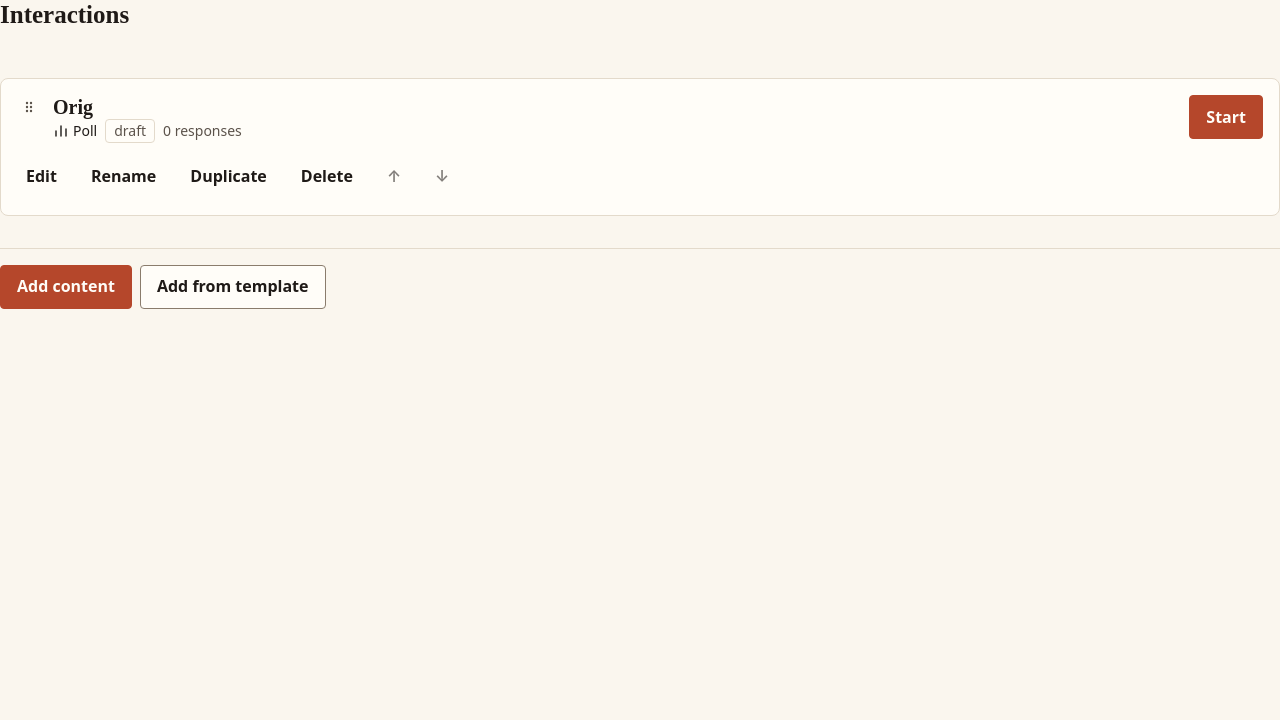
it: PollManager › duplicates and deletes drafts
Step 1. Click the button "Duplicate" → (229, 177), box [173,155,284,199]
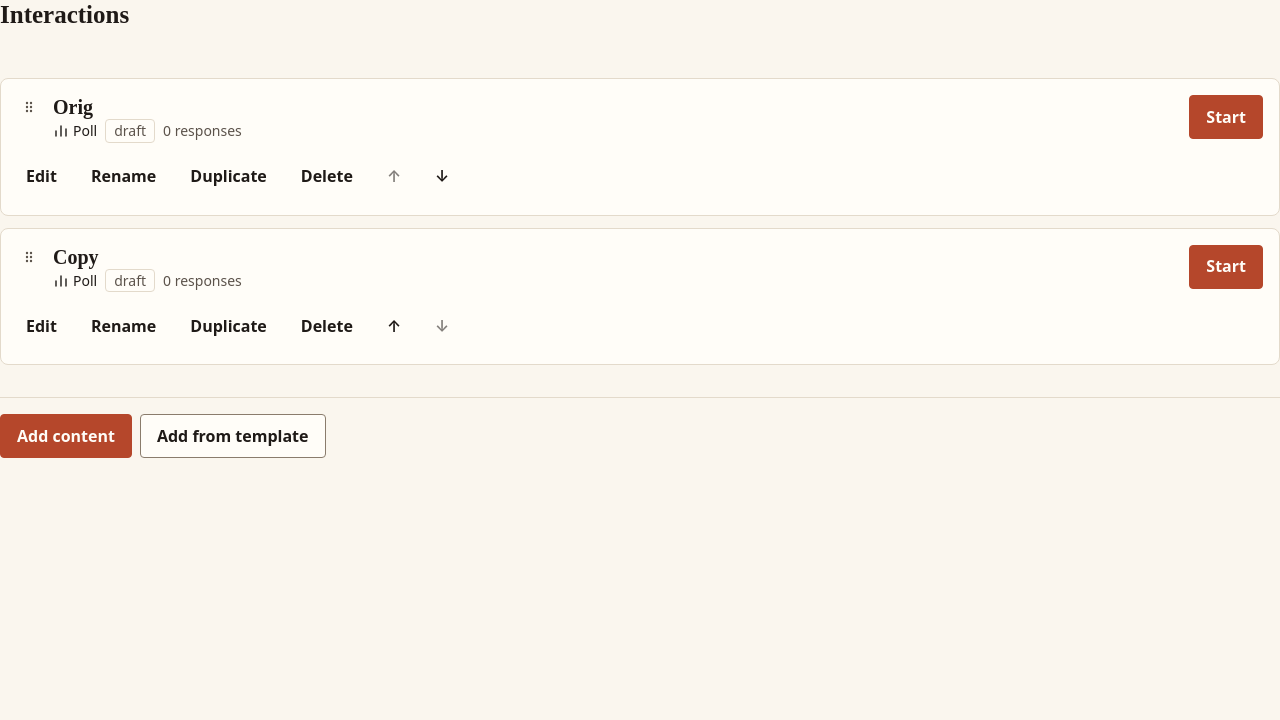
Check: the heading "Copy" is shown, box [53,246,99,268]
Step 2. Click the button "Delete" below "Orig" → (327, 177), box [284,155,370,199]
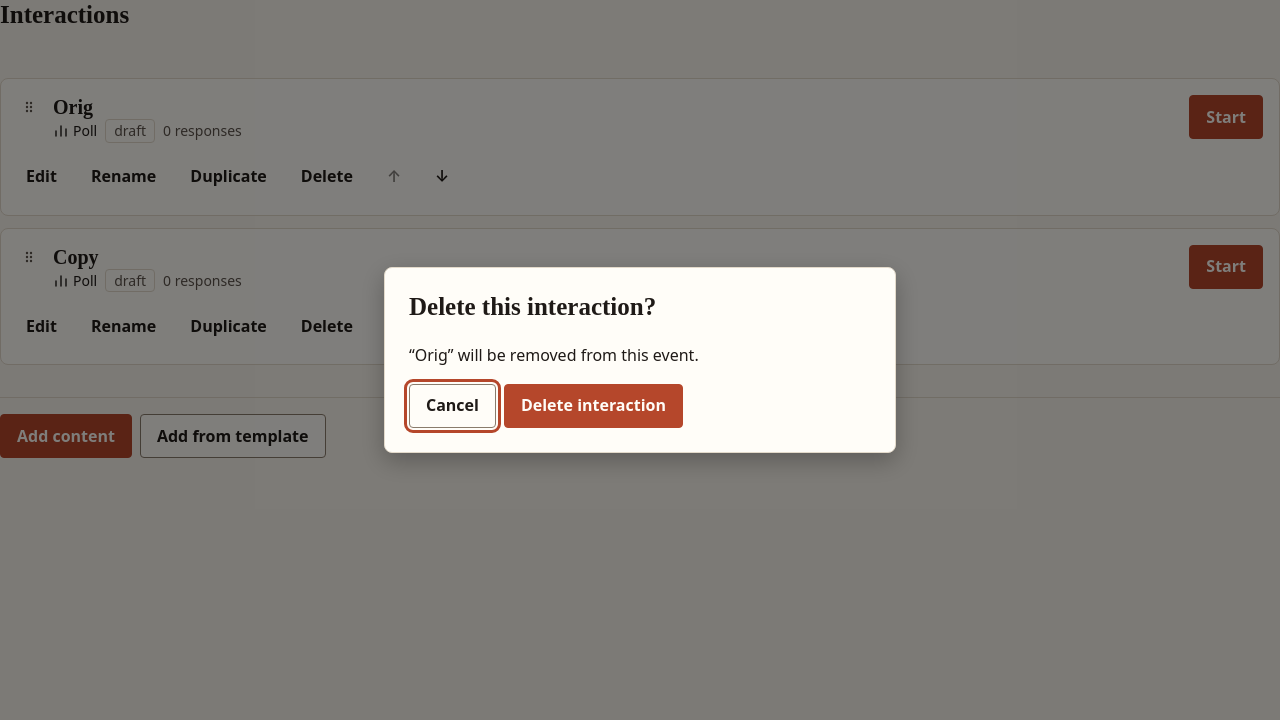
Step 3. Click the button "Delete interaction" → (593, 406), box [504,384,683,428]
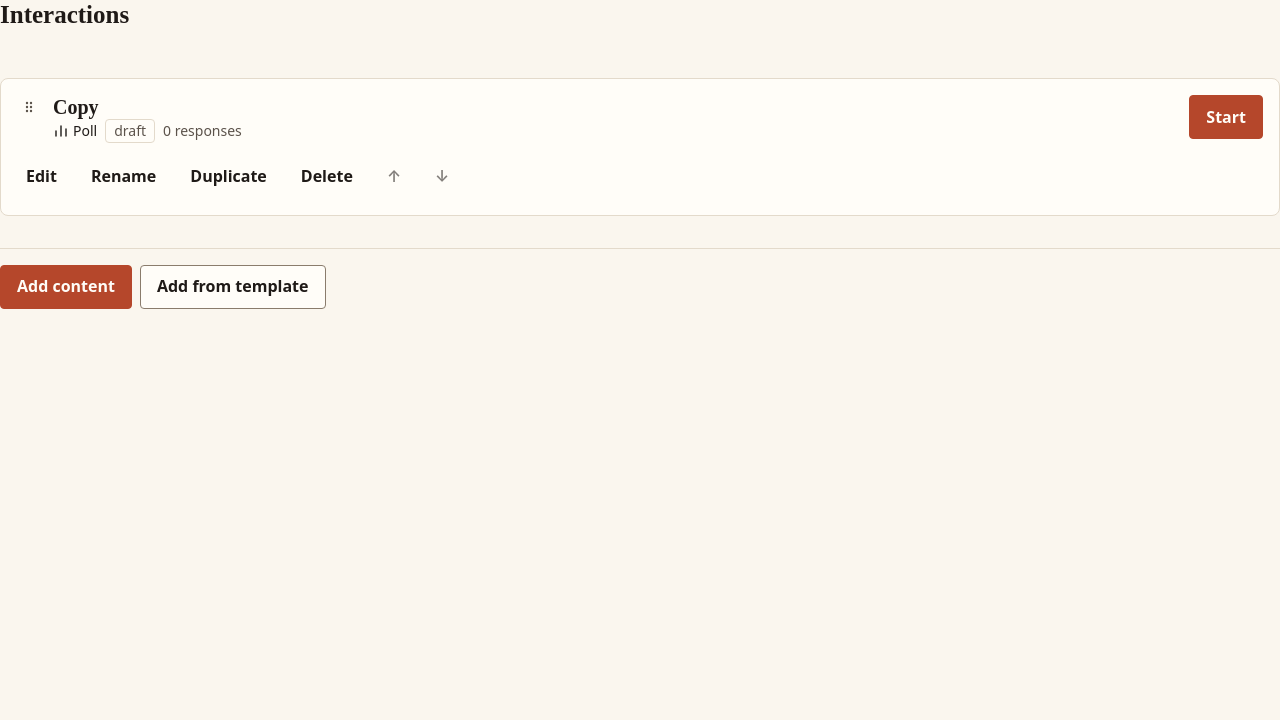
Check: the heading "Orig" is gone
